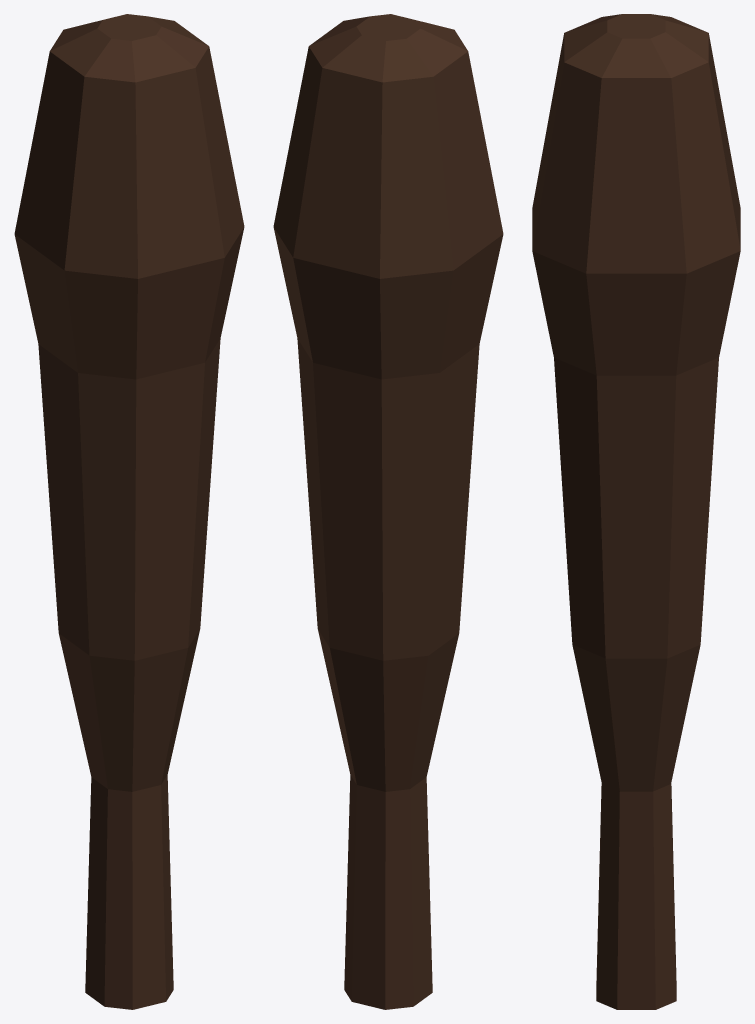
File: 004_Club.fbx
3 views of the same model, side by side, from view 1: azimuth 30°, elevation 25°; view 2: azimuth 150°, elevation 25°; view 3: azimuth 270°, elevation 25° (orthographic).
Parts seen in each view (by area): view 1: Club; view 2: Club; view 3: Club.
Part boxes in pixels (<box>): Club: <box>14,14,244,1009</box>; Club: <box>273,14,503,1009</box>; Club: <box>532,14,740,1009</box>.
Bounding box in the file's own units: 12.99 × 66.49 × 12.99.
